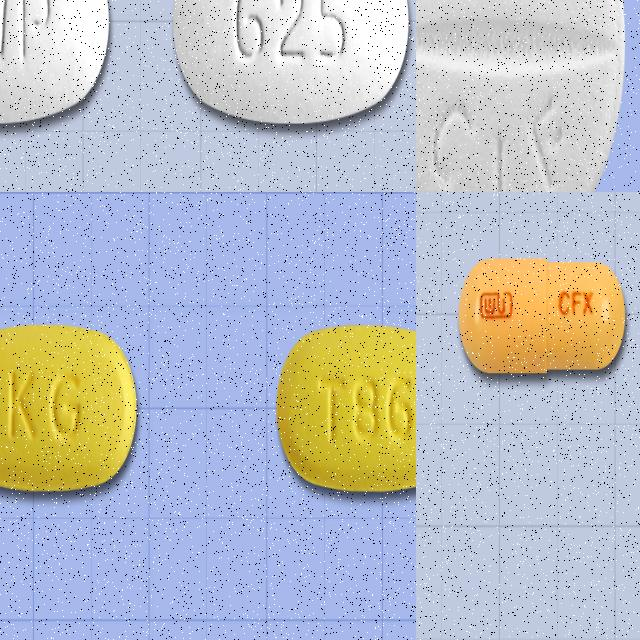Amoxicle: (173, 0, 414, 132), (0, 0, 114, 131)
Cefixime Cap- Withus: (457, 253, 630, 385)
Cifxacin: (416, 0, 629, 192)
Clarin: (275, 319, 416, 499), (0, 320, 140, 498)
